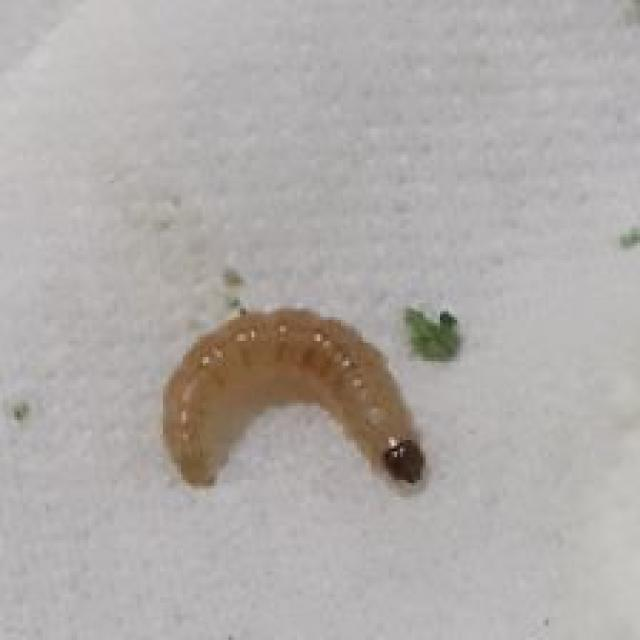white mucus: (124, 297, 440, 505)
